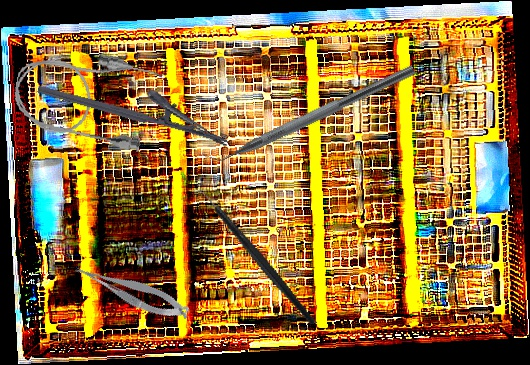Cannula: (7, 39, 165, 154)
Chopper: (196, 50, 417, 176), (187, 165, 318, 349)
Micro Scissor: (72, 251, 193, 330)
Needle Holder: (36, 58, 237, 149)
